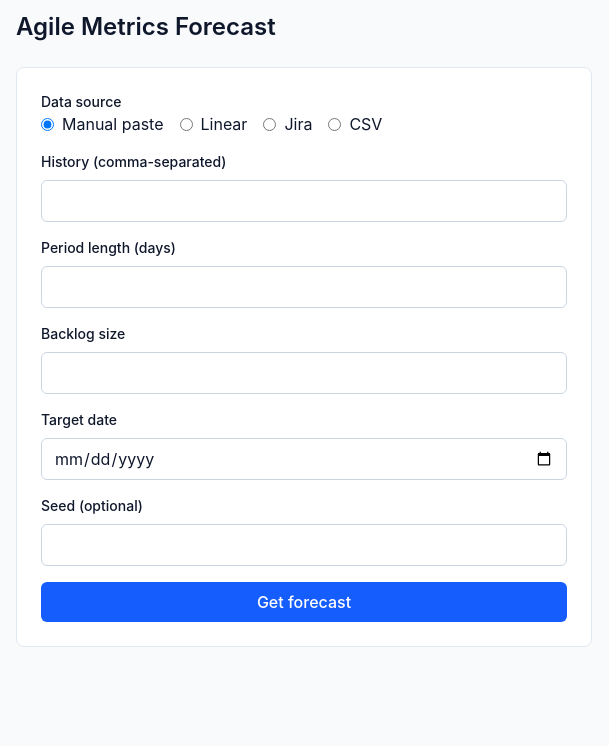
Test: App - forecast charts (spec 005) › renders no charts region when the submission fails
In the field labelled "History (comma-separated)": (304, 201) [41,180,567,222], type "3,5,4,6,2,5,4,3"
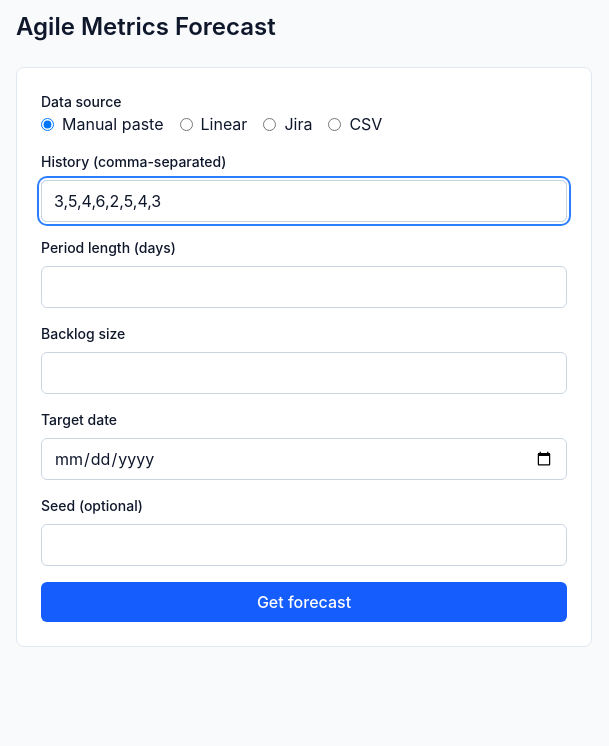
In the field labelled "Period length (days)": (304, 287) [41,266,567,308], type "7"
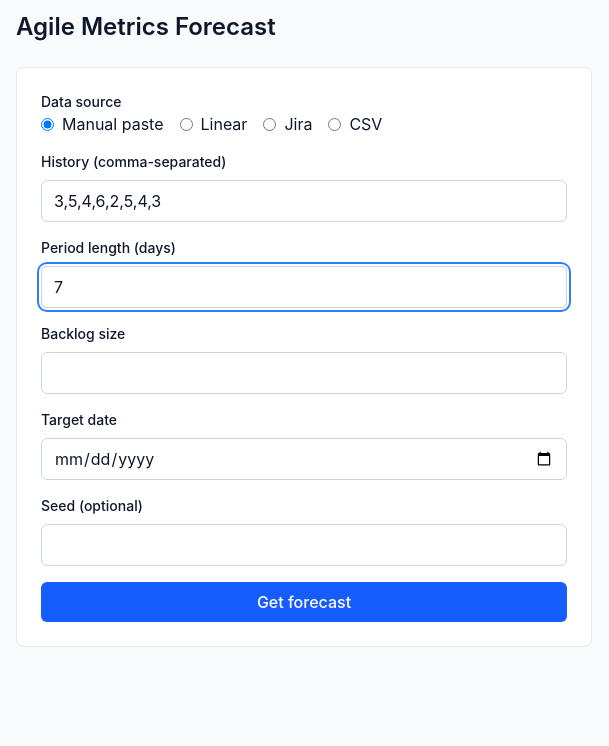
In the field labelled "Backlog size": (304, 373) [41,352,567,394], type "20"
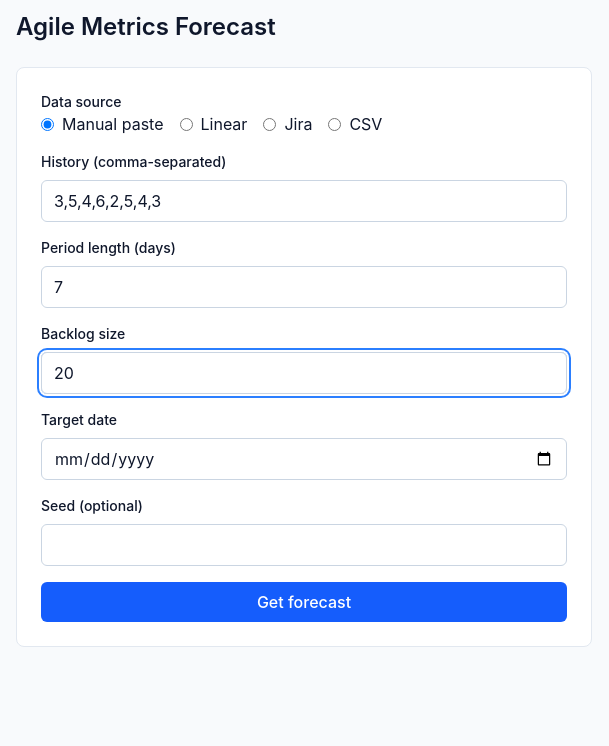
Click the button "Get forecast": (304, 602) [41,582,567,622]
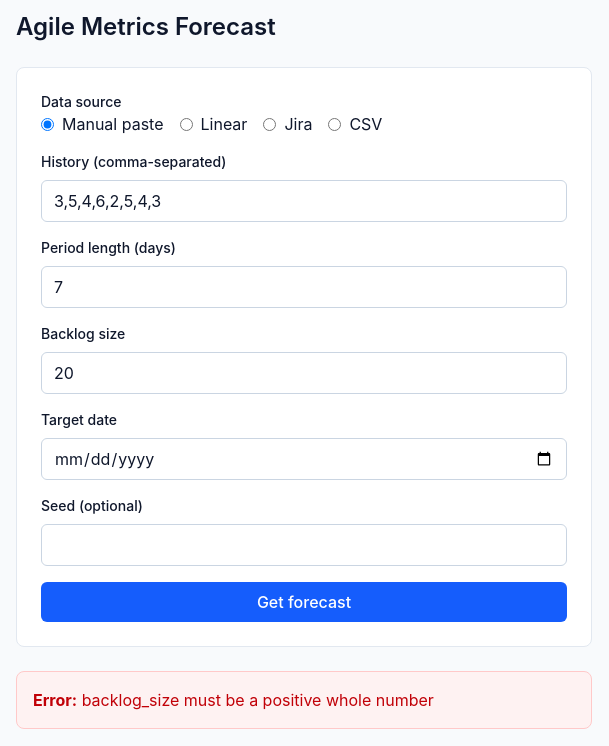
Check: the text "Error: backlog_size must be a positive whole number" is shown, box [16,671,592,729]
